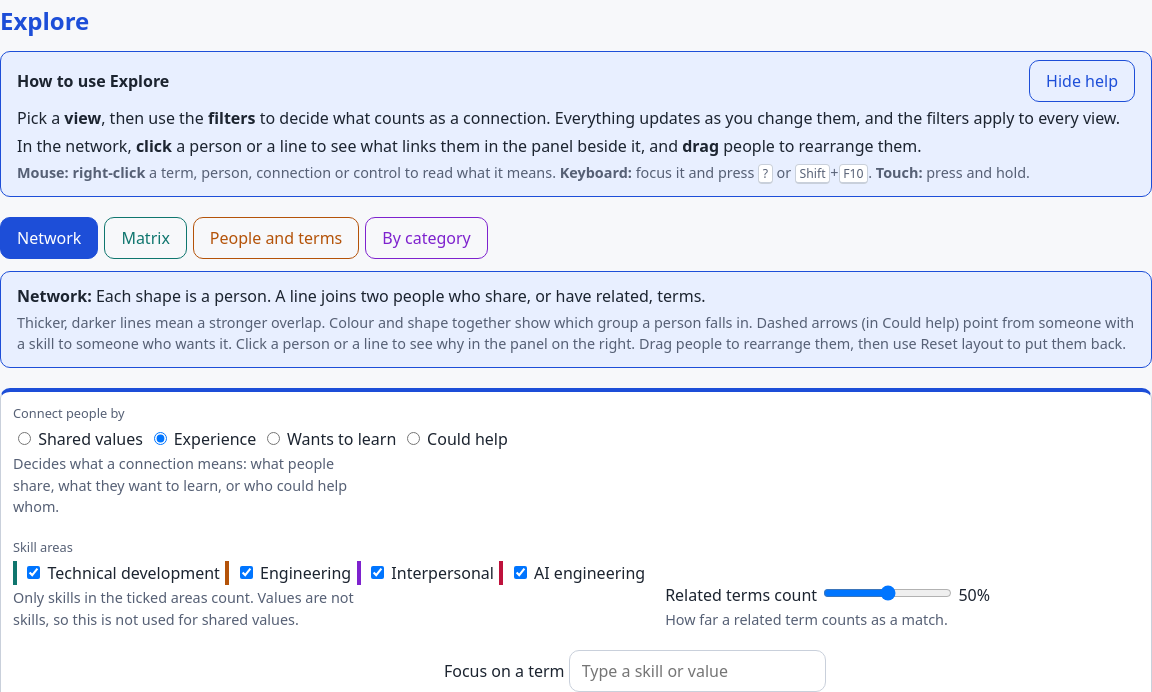
it: Explore matrix › marks who has each term and who only has a related one
Click the button "Matrix": [146, 238] box [104,217,187,259]
(page scrolled)
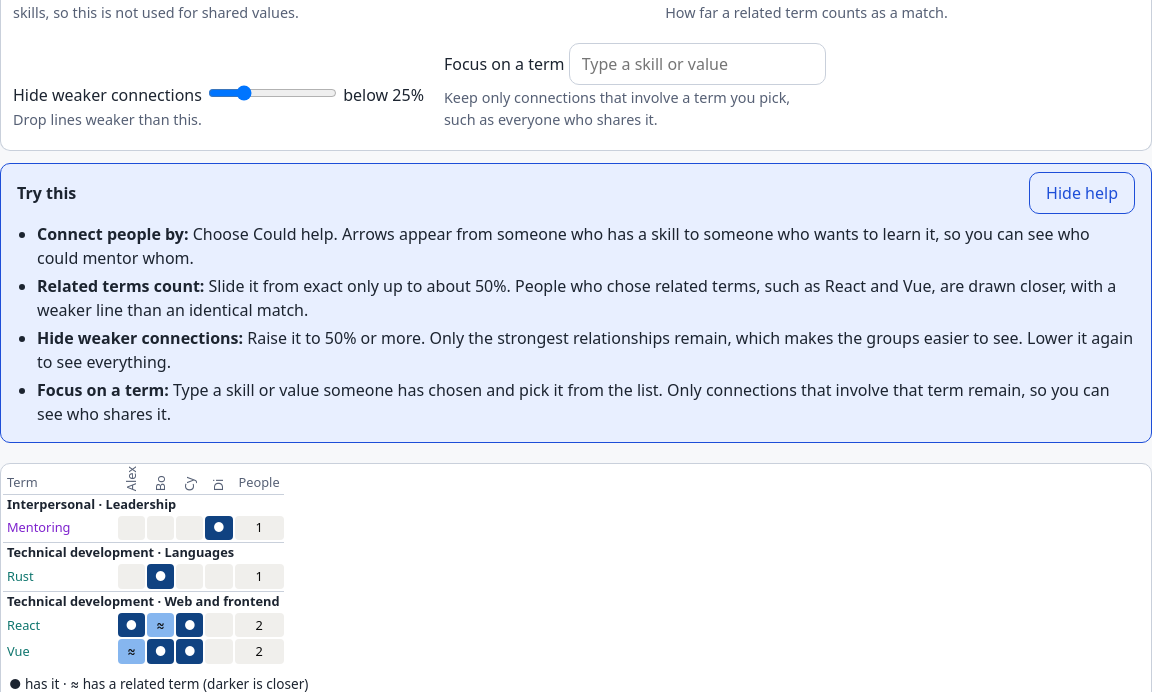
Check: the 1st cell "≈" is shown, box [147,613,174,637]
Check: the 5th cell "●" is shown, box [147,639,174,664]
Check: the cell "●" next to "Mentoring" is shown, box [213,518,225,536]
